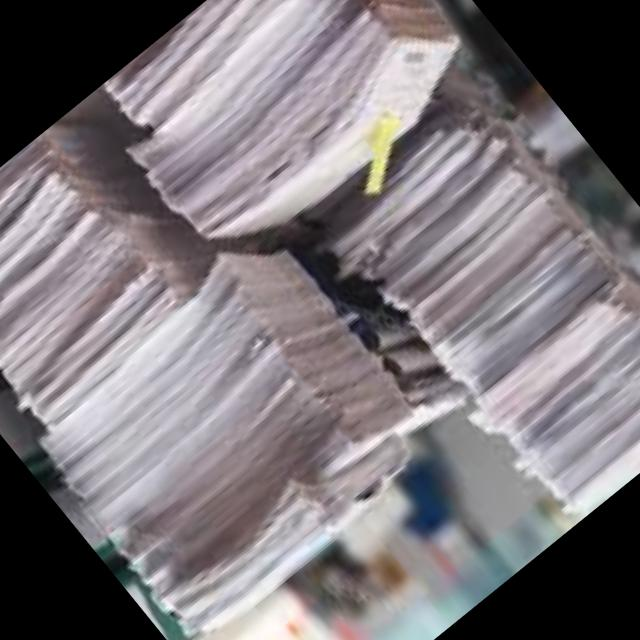KertasBekas: (0, 0, 640, 640), (0, 55, 457, 640), (286, 54, 640, 534), (83, 0, 502, 297)
